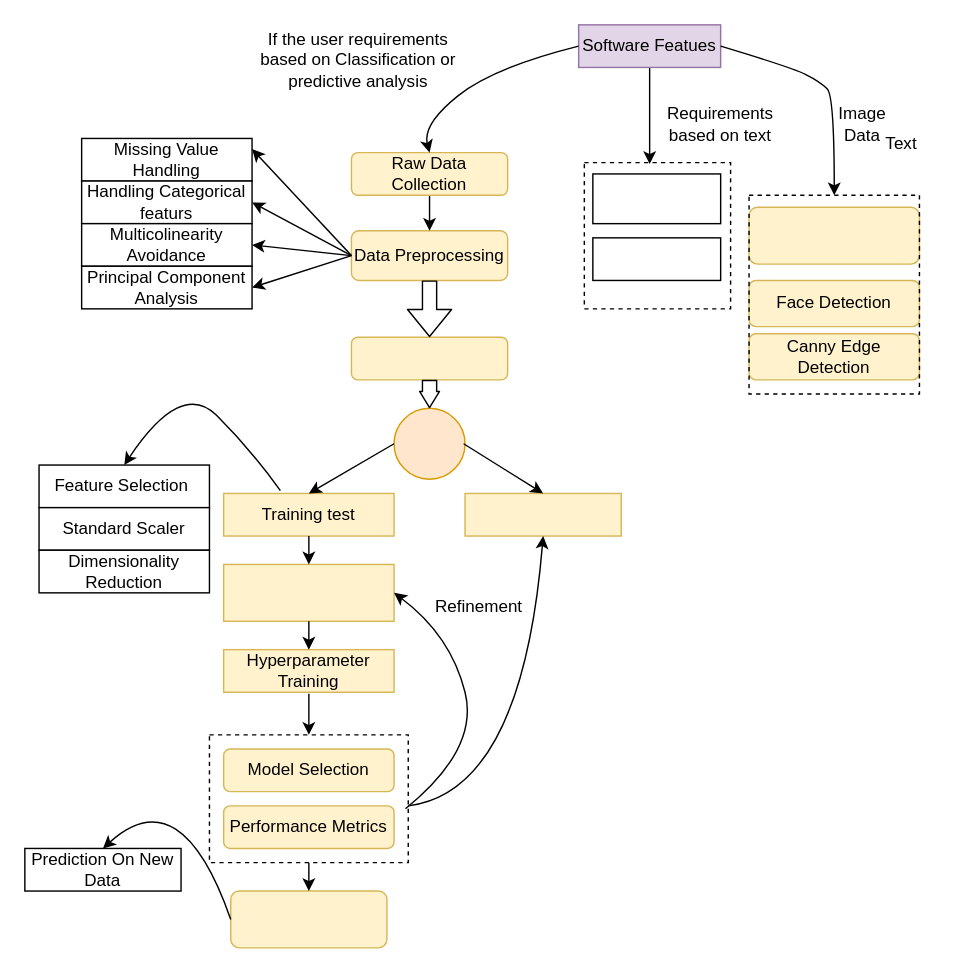
Image size: 954x973. Some labels were removed from this diagram. The shapes that lost their labels are listed below. From the top down, each one's centre as x and y in pixels, then its label:
At point 656,198: "Sentiment Analysis".
At point 833,235: "Optical Character Recognition(OCR)".
At point 656,258: "Advanced Text Summarizer".
At point 429,358: "Sampling".
At point 429,443: "Split Amount 0.3".
At point 542,514: "test Test".
At point 308,592: "Algorithm Training k-fold cross validation".
At point 308,919: "Optimal Algorithm Selection".
